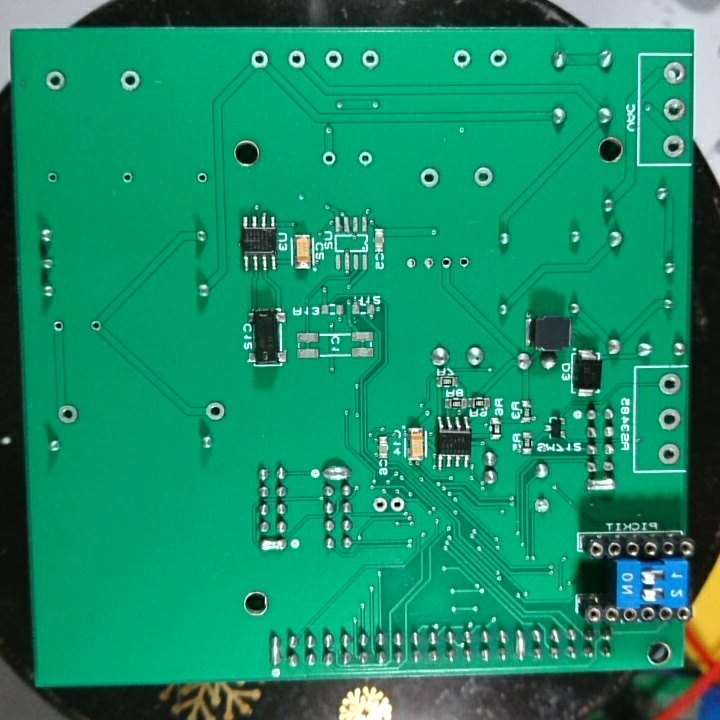F: (661, 92, 688, 125), (656, 403, 684, 434), (656, 371, 685, 399), (116, 67, 144, 95), (41, 67, 69, 95), (416, 164, 444, 192), (661, 129, 687, 159), (53, 400, 83, 426), (468, 163, 498, 189), (484, 46, 512, 73), (660, 58, 687, 85), (655, 440, 681, 467), (202, 399, 230, 424), (248, 46, 273, 74), (284, 46, 310, 72), (450, 46, 475, 73), (321, 46, 346, 72), (359, 47, 384, 72), (532, 495, 554, 518), (370, 495, 389, 519), (50, 315, 69, 338), (354, 149, 373, 171), (388, 495, 407, 515), (43, 168, 64, 186), (321, 148, 339, 169), (86, 316, 104, 335), (456, 252, 473, 272), (117, 169, 136, 186), (403, 253, 419, 272), (437, 255, 454, 272), (195, 169, 210, 184), (421, 255, 434, 272)
P: (583, 475, 618, 495), (512, 625, 528, 664), (258, 535, 289, 555), (267, 631, 283, 668), (321, 462, 351, 480)
